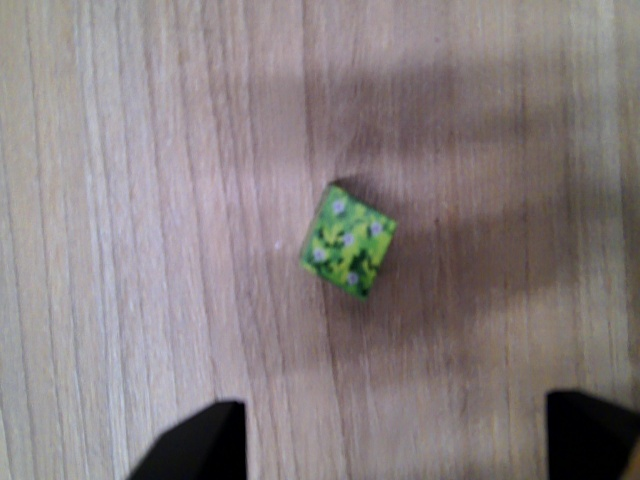grass: (298, 184, 396, 304)
